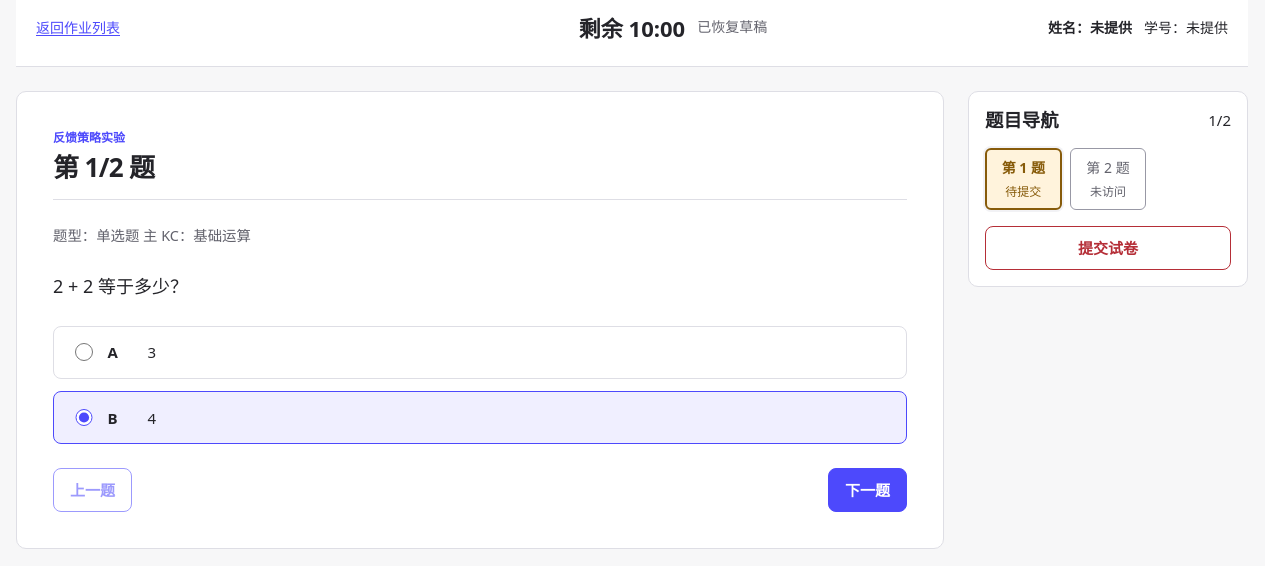
StudentAssessment › restores and autosaves a choice without creating a formal submission
Check: the radio button named "answer" is checked, box [75,409,93,426]
What coordinates should you click on to do the following:
click the radio button named "answer"
I would click on:
 (84, 352)
Its box is [75,343,93,361].
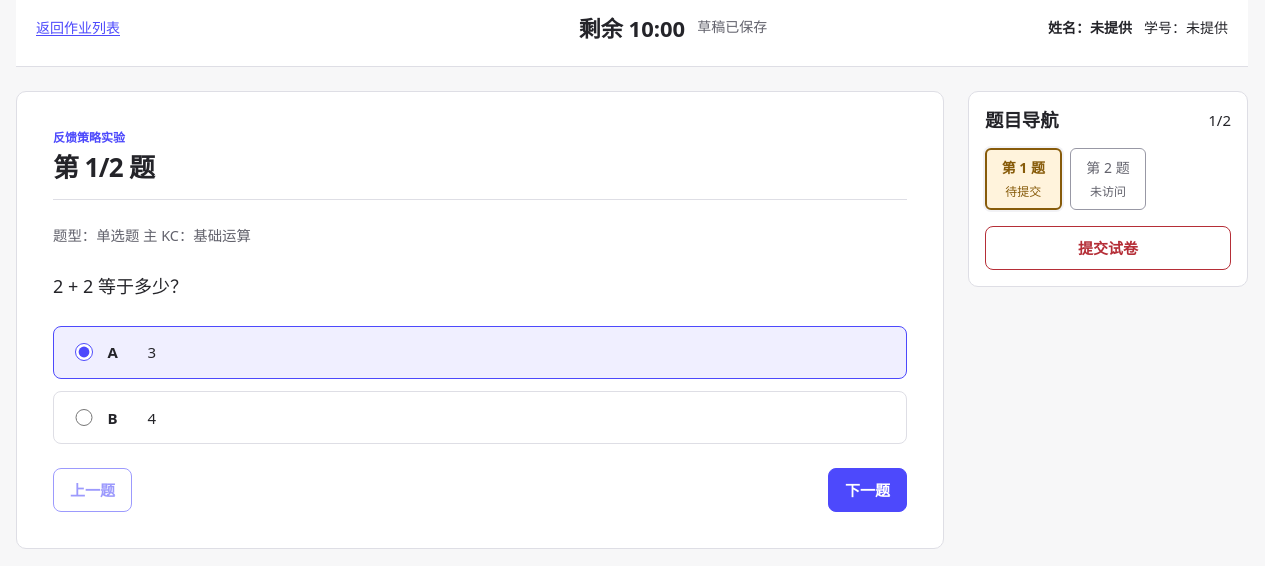
Check: the message "草稿已保存" is shown, box [697,16,767,41]
